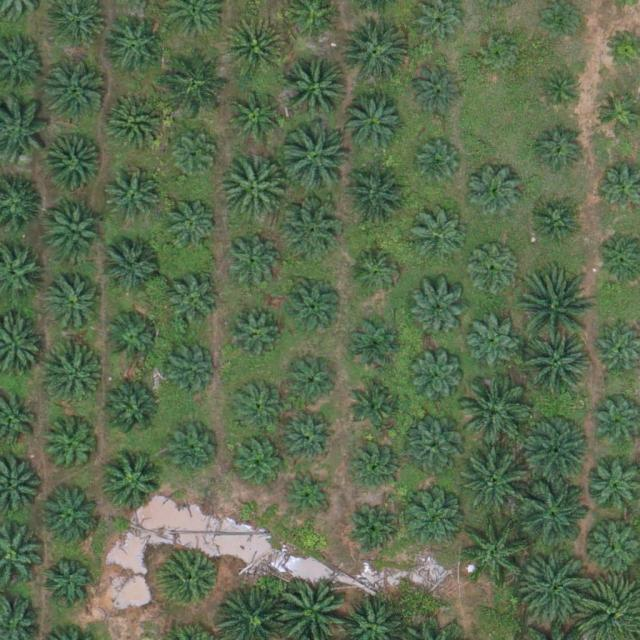Healthy: (517, 415, 588, 486), (337, 165, 408, 236), (280, 126, 351, 197), (162, 46, 233, 117), (520, 475, 590, 546), (524, 555, 594, 626), (284, 55, 354, 126), (522, 275, 592, 345), (521, 333, 591, 403), (462, 517, 532, 587), (462, 449, 532, 519), (460, 379, 530, 449), (218, 154, 288, 224), (339, 19, 409, 89), (100, 381, 163, 444), (44, 346, 107, 409), (45, 60, 108, 123), (403, 421, 465, 484), (402, 487, 465, 549), (343, 95, 405, 158), (279, 199, 341, 262), (160, 550, 222, 613), (102, 93, 164, 156), (103, 236, 165, 299), (101, 453, 163, 516), (44, 134, 106, 197), (44, 200, 107, 262), (105, 18, 167, 81), (224, 17, 286, 80), (40, 488, 102, 550), (533, 125, 588, 180), (526, 198, 581, 253), (411, 287, 466, 342), (411, 350, 466, 405), (169, 128, 224, 183), (163, 195, 218, 250), (165, 275, 220, 330), (161, 339, 216, 394), (233, 434, 288, 489), (224, 306, 279, 361), (225, 233, 280, 288), (286, 278, 341, 333), (284, 356, 339, 411), (348, 505, 403, 560), (349, 244, 404, 299), (467, 245, 522, 300), (412, 210, 467, 265), (108, 171, 163, 226), (105, 309, 160, 364), (48, 274, 103, 329), (46, 422, 101, 477), (41, 555, 96, 610), (228, 93, 283, 148), (410, 66, 465, 121), (165, 423, 219, 478), (231, 381, 285, 436), (285, 409, 339, 464), (346, 436, 400, 491), (351, 376, 405, 431), (346, 315, 400, 370), (468, 164, 522, 219), (466, 316, 520, 371)
Small: (415, 141, 462, 189), (286, 469, 333, 517), (479, 32, 526, 79), (537, 68, 584, 115)
